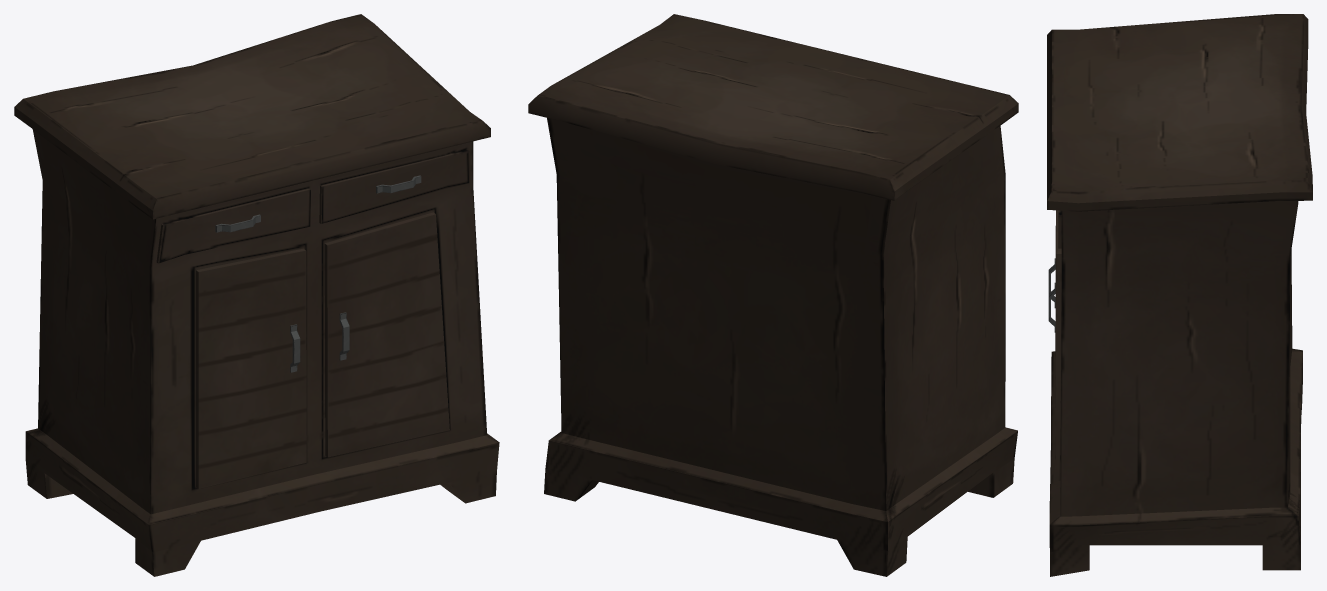
Rendered from Shoes_rack.fbx.
3 views of the same model, side by side, from view 1: azimuth 30°, elevation 25°; view 2: azimuth 150°, elevation 25°; view 3: azimuth 270°, elevation 25° (orthographic). The views are drawn at different scales.
Parts seen in each view (by area): view 1: Shoes_rack; view 2: Shoes_rack; view 3: Shoes_rack.
Boxes of the visible parts, x1,y1,x2,y2 form: Shoes_rack: (14, 14, 499, 576); Shoes_rack: (528, 14, 1018, 576); Shoes_rack: (1047, 14, 1312, 576).
Size of the model in its own units: 96.8 by 101 by 62.01.
